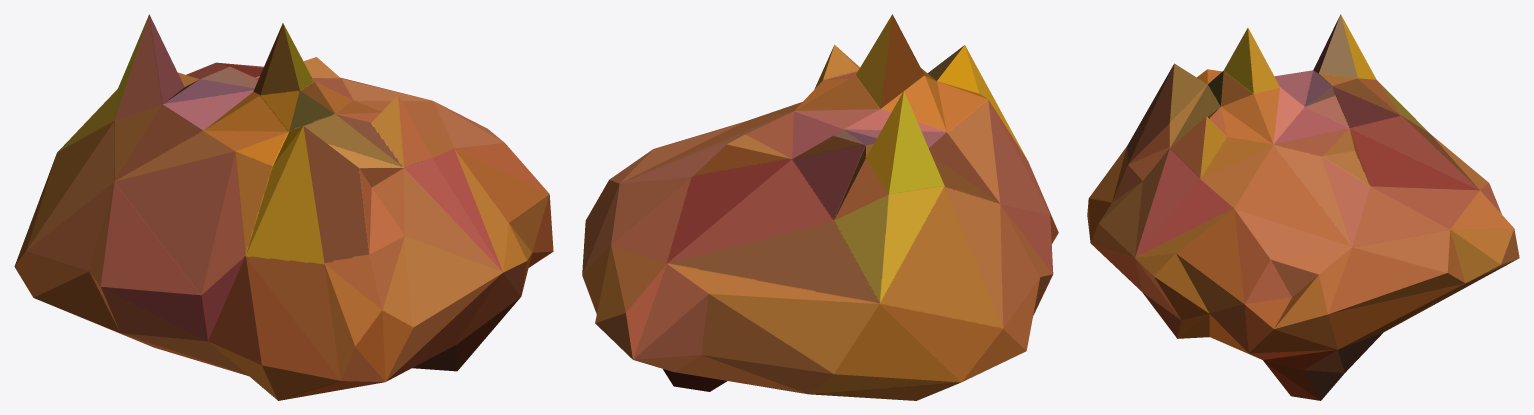
File: lava.fbx
3 views of the same model, side by side, from view 1: azimuth 30°, elevation 25°; view 2: azimuth 150°, elevation 25°; view 3: azimuth 270°, elevation 25° (orthographic). The views are drawn at different scales.
Visible parts, largest first — view 1: Mesh_0; view 2: Mesh_0; view 3: Mesh_0.
Part boxes in pixels (bbox=[...]): Mesh_0: bbox=[14, 14, 553, 400]; Mesh_0: bbox=[582, 14, 1058, 400]; Mesh_0: bbox=[1087, 14, 1519, 400].
Size of the model in its own units: 115 by 92.88 by 118.
Materials: 1 (1 with a texture image).
